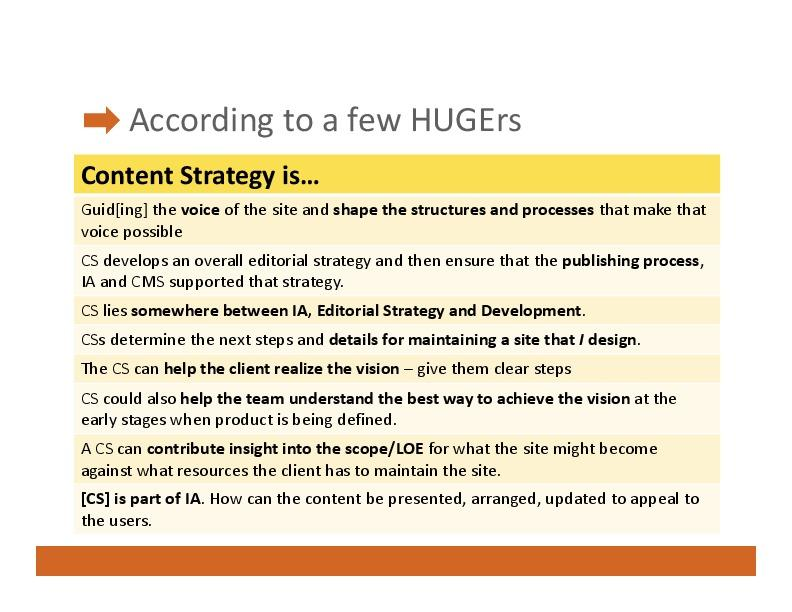paragraph: (77, 193, 720, 538)
subtitle: (80, 161, 331, 193)
title: (127, 98, 534, 144)
